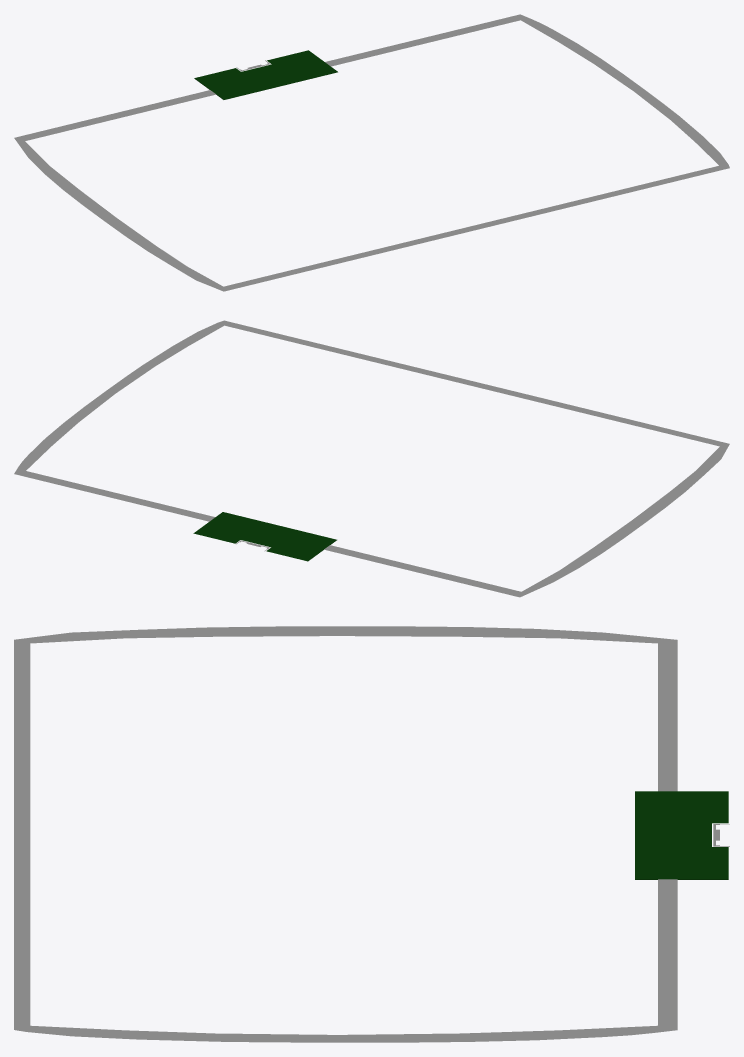
File: bordeCampo.FBX
3 renders of one model, top to bottom at view 1: azimuth 30°, elevation 25°; view 2: azimuth 150°, elevation 25°; view 3: azimuth 270°, elevation 25°, orthographic. The views are drawn at different scales.
Parts seen in each view (by area): view 1: bordeCampo; view 2: bordeCampo; view 3: bordeCampo.
Part boxes in pixels (x1,y1,x2,y2): bordeCampo: [14, 14, 729, 291]; bordeCampo: [14, 320, 729, 597]; bordeCampo: [14, 626, 729, 1042].
Bounding box in the file's own units: 11579 × 7.73 × 8414.
